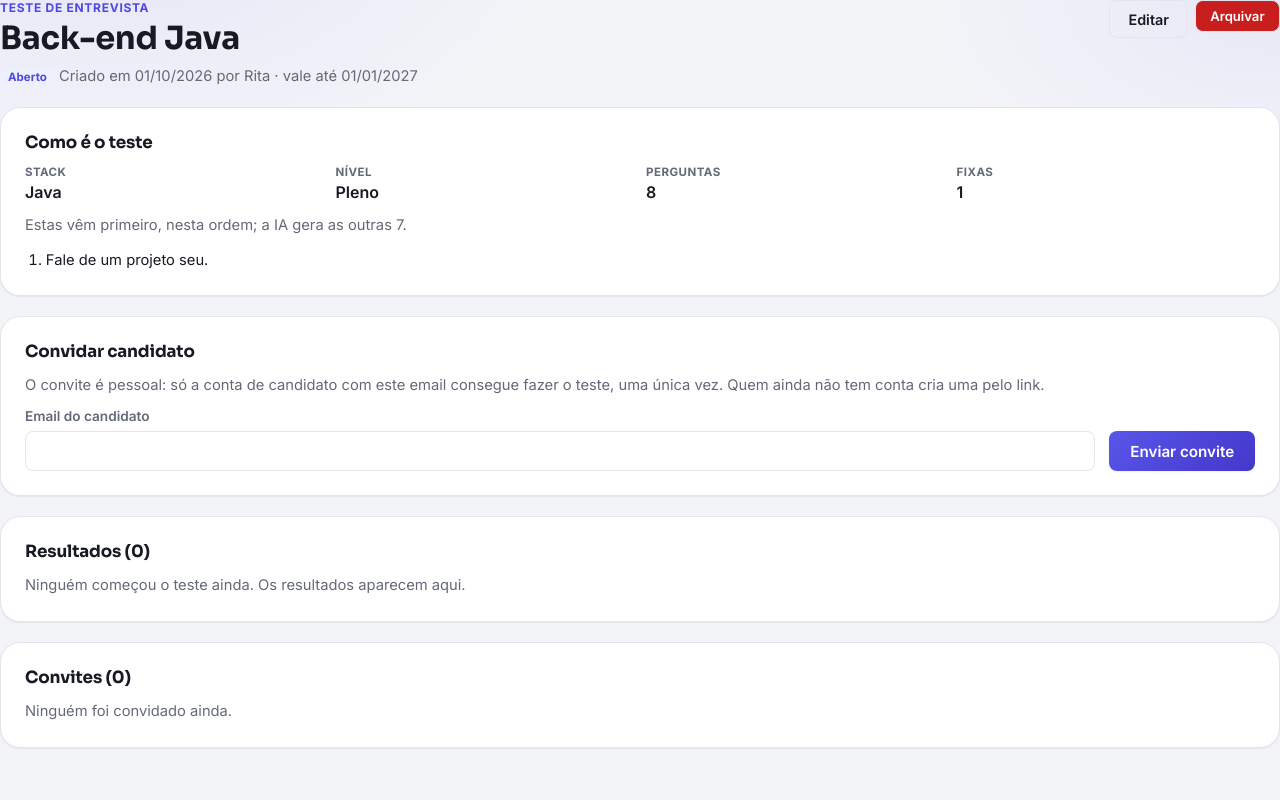
AssessmentDetailPage › convidar mostra o link para copiar e recarrega a lista
Type "ana@x.com" into the field labelled "Email do candidato" at point(560, 451), box x1=25 y1=431 x2=1095 y2=471
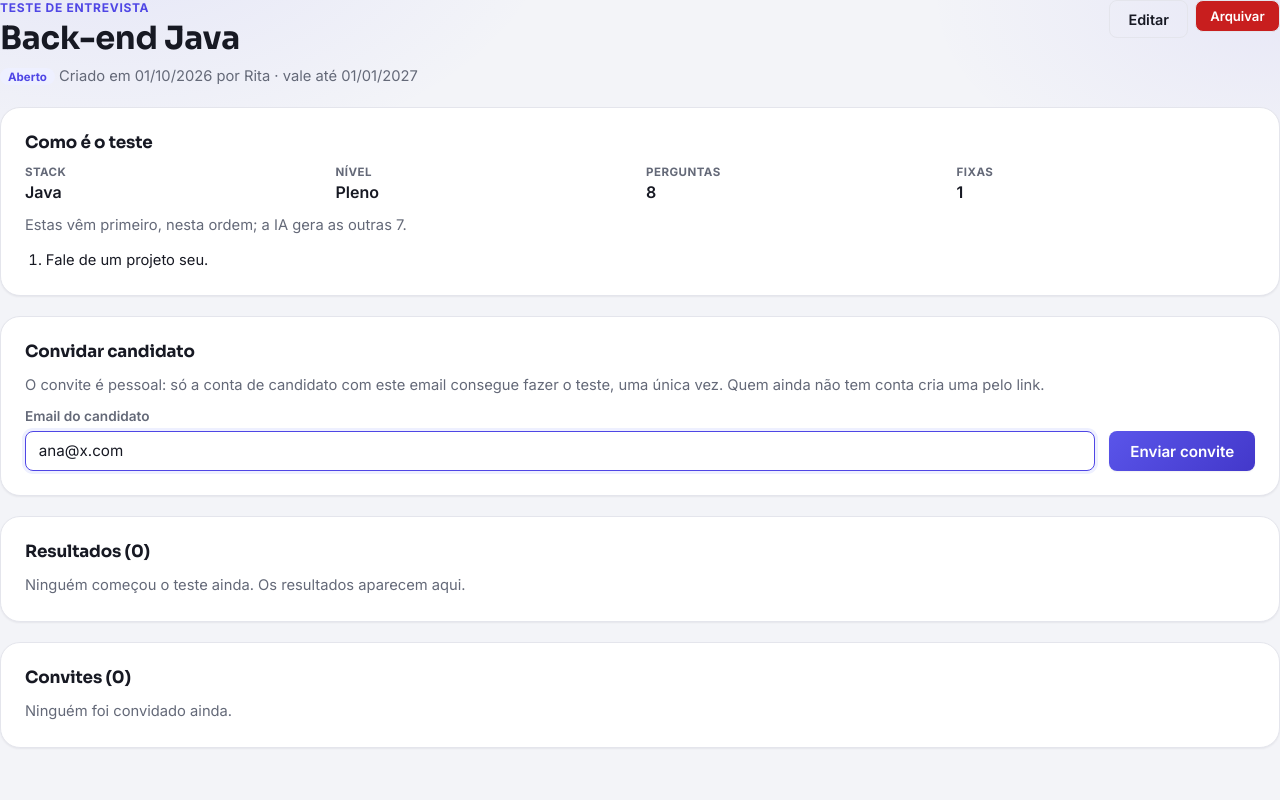
Click the button "Enviar convite" at point(1182, 451), box x1=1110 y1=431 x2=1255 y2=471
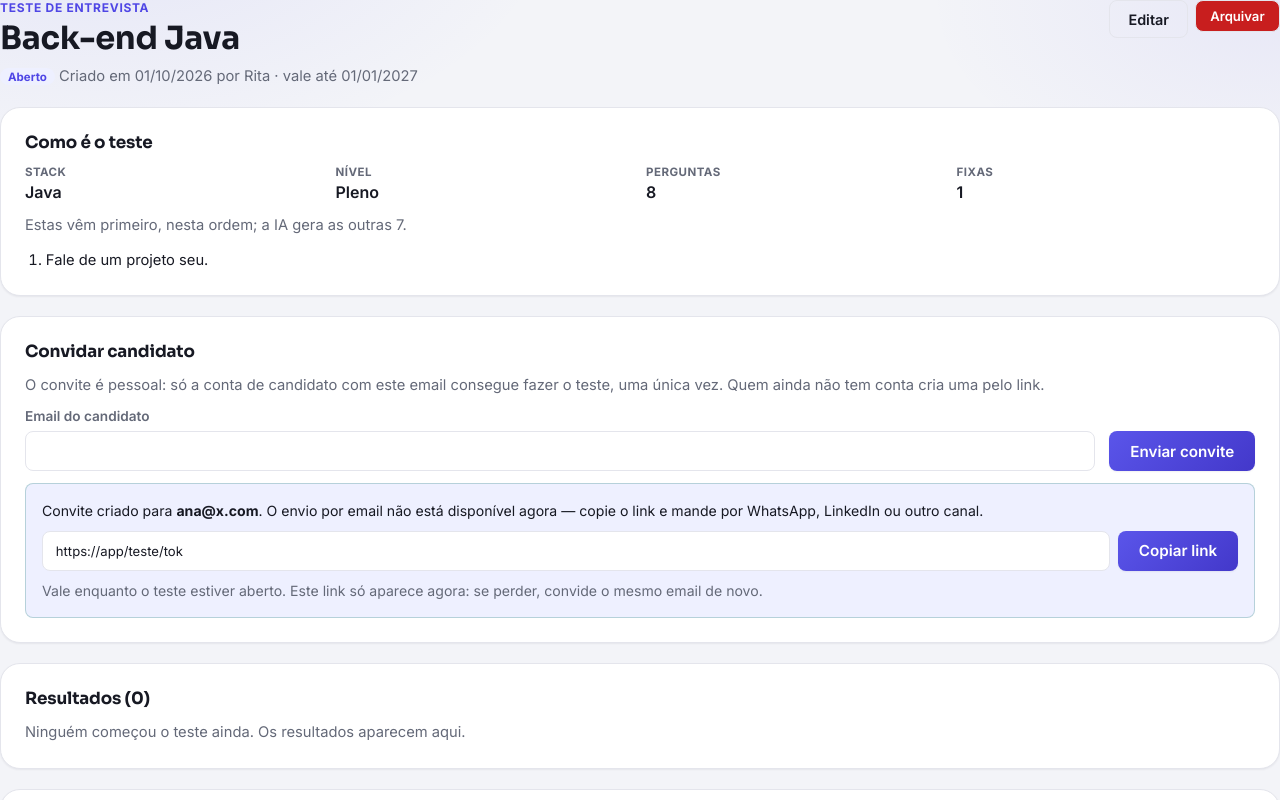
Check: the field showing "https://app/teste/tok" is shown, box x1=42 y1=531 x2=1110 y2=571
Check: the text "copie o link" is shown, box x1=258 y1=502 x2=983 y2=519
